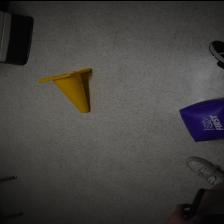cone: (38, 67, 92, 112)
cube: (178, 96, 224, 142)
